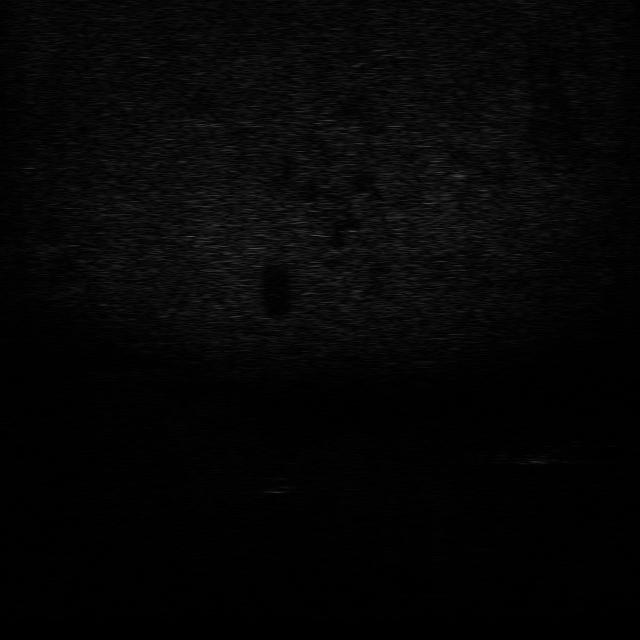ball: (259, 476, 296, 498)
human body: (500, 436, 589, 468)
